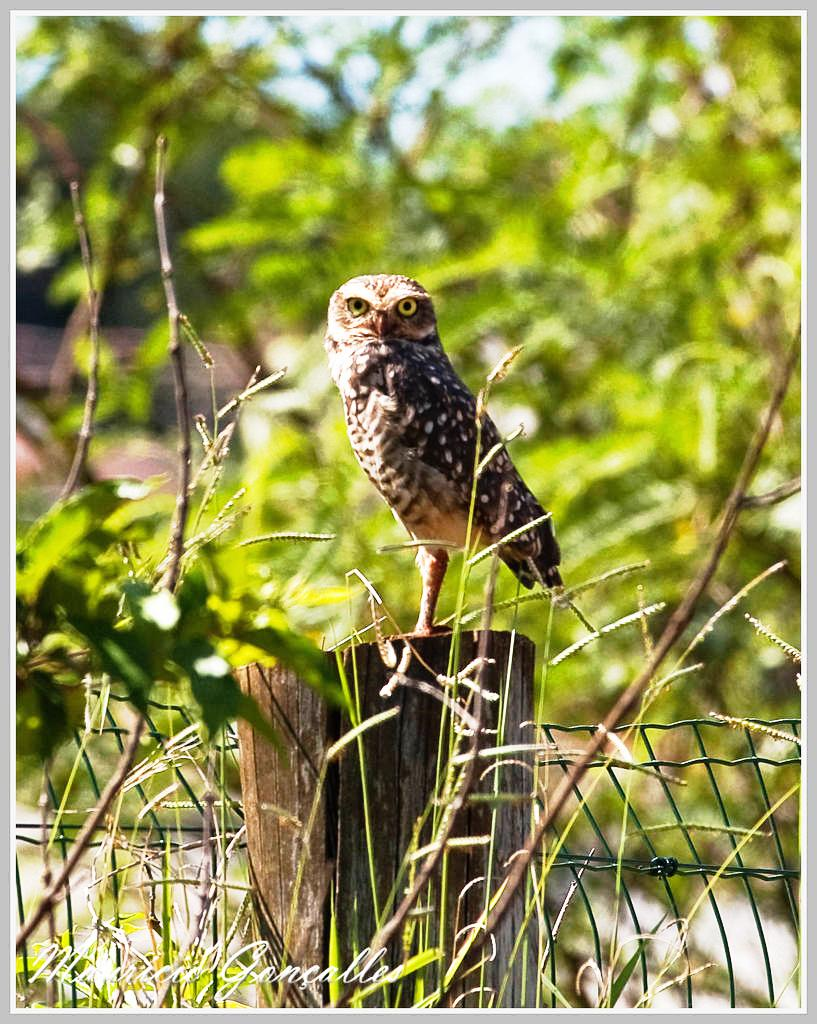Owl: (323, 253, 603, 654)
